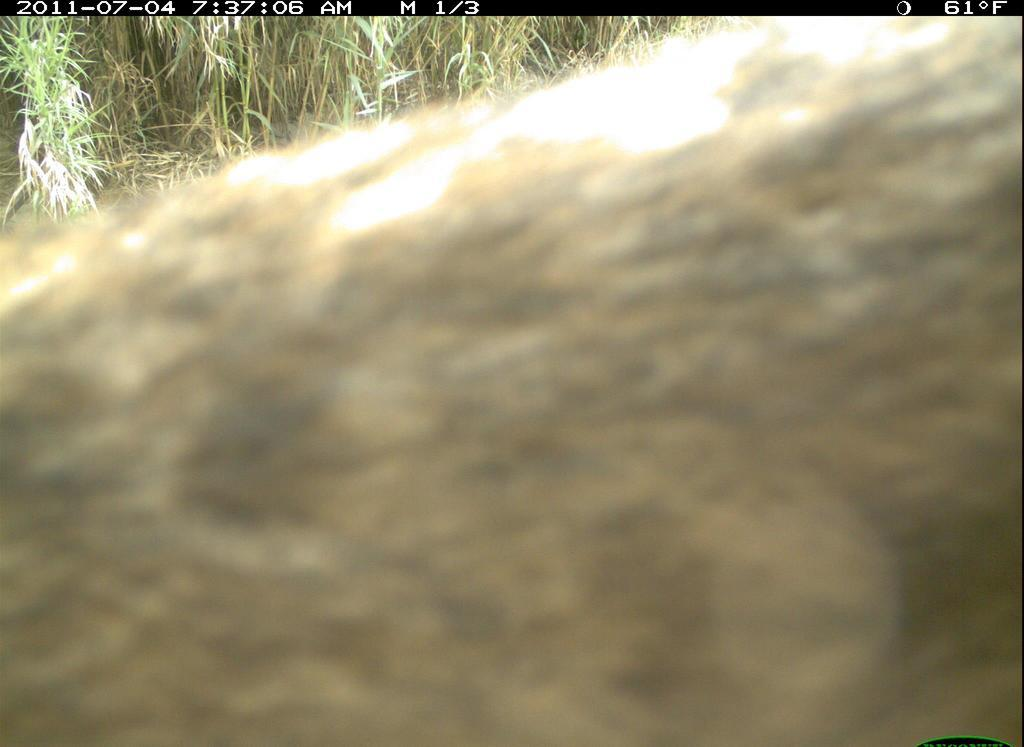coyote: (6, 17, 1022, 745)
